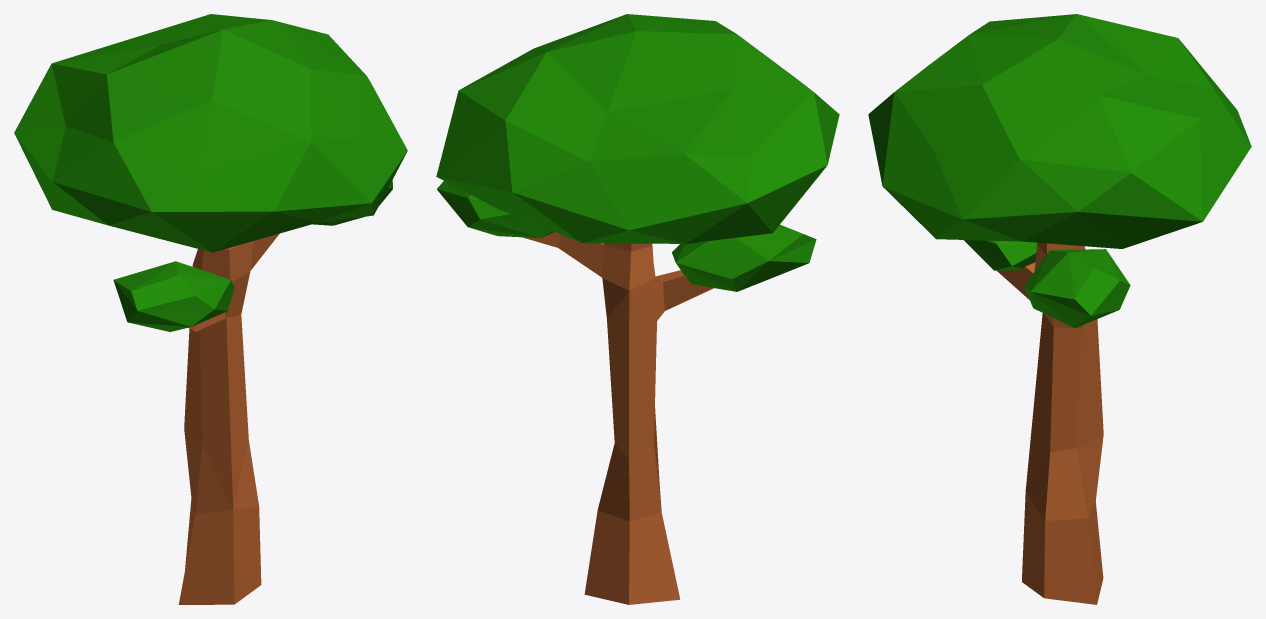
Rendered from tree_giant.fbx.
3 views of the same model, side by side, from view 1: azimuth 30°, elevation 25°; view 2: azimuth 150°, elevation 25°; view 3: azimuth 270°, elevation 25° (orthographic). The views are drawn at different scales.
Parts seen in each view (by area): view 1: tree_giant; view 2: tree_giant; view 3: tree_giant.
Boxes of the visible parts, x1=… form: tree_giant: x1=14, y1=14, x2=407, y2=604; tree_giant: x1=436, y1=14, x2=839, y2=604; tree_giant: x1=868, y1=14, x2=1251, y2=604.
Bounding box in the file's own units: 470 × 689 × 435.
